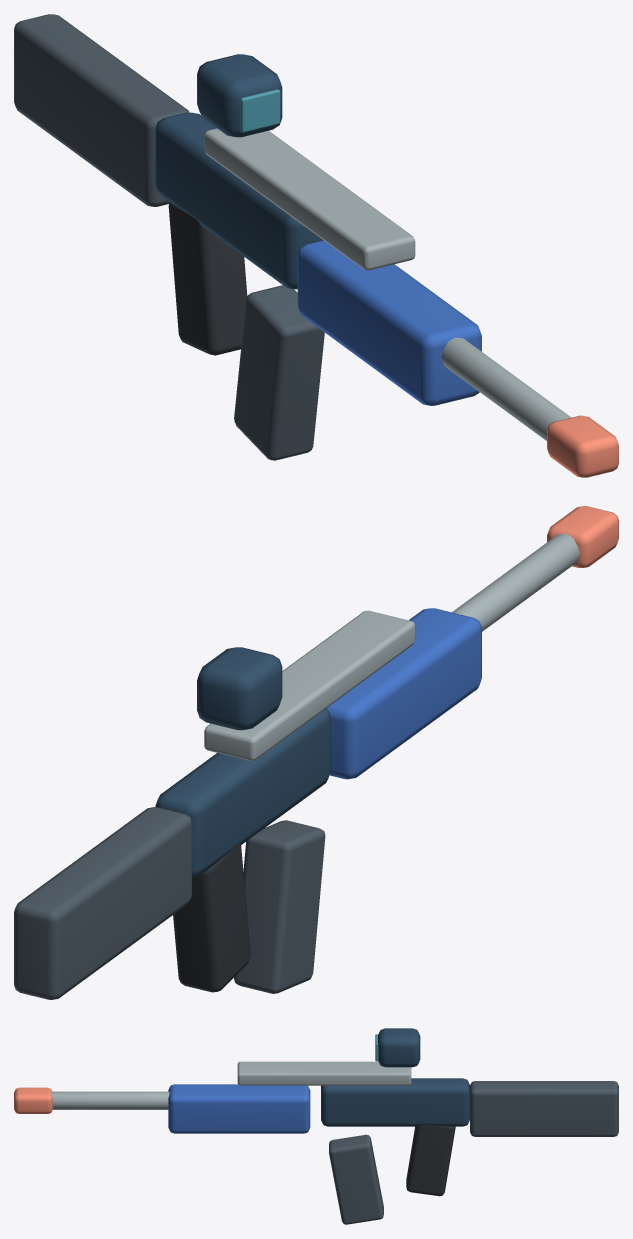
The model's file is HL_Carbine_Breakwater.fbx.
3 views of the same model, one above another, from view 1: azimuth 30°, elevation 25°; view 2: azimuth 150°, elevation 25°; view 3: azimuth 270°, elevation 25° (orthographic). The views are drawn at different scales.
Visible parts, largest first — view 1: Carbine | stock, Carbine | handguard, Carbine | magazine, Carbine | receiver, Carbine | upper rail, Carbine | pistol grip, Carbine | barrel, Carbine | optic housing, Carbine | muzzle brake, Carbine | optic glass; view 2: Carbine | stock, Carbine | handguard, Carbine | receiver, Carbine | magazine, Carbine | upper rail, Carbine | pistol grip, Carbine | optic housing, Carbine | barrel, Carbine | muzzle brake; view 3: Carbine | stock, Carbine | handguard, Carbine | receiver, Carbine | upper rail, Carbine | magazine, Carbine | pistol grip, Carbine | barrel, Carbine | optic housing, Carbine | muzzle brake.
Part boxes in pixels (x1=…): Carbine | stock: x1=14, y1=14, x2=189, y2=206; Carbine | handguard: x1=297, y1=240, x2=481, y2=405; Carbine | magazine: x1=234, y1=285, x2=324, y2=460; Carbine | receiver: x1=155, y1=112, x2=322, y2=289; Carbine | upper rail: x1=204, y1=128, x2=415, y2=270; Carbine | pistol grip: x1=168, y1=202, x2=247, y2=355; Carbine | barrel: x1=441, y1=337, x2=571, y2=440; Carbine | optic housing: x1=197, y1=54, x2=282, y2=137; Carbine | muzzle brake: x1=547, y1=415, x2=618, y2=477; Carbine | optic glass: x1=240, y1=89, x2=280, y2=132; Carbine | stock: x1=14, y1=807, x2=191, y2=999; Carbine | handguard: x1=326, y1=608, x2=481, y2=779; Carbine | receiver: x1=155, y1=708, x2=330, y2=877; Carbine | magazine: x1=234, y1=820, x2=325, y2=993; Carbine | upper rail: x1=204, y1=610, x2=415, y2=760; Carbine | pistol grip: x1=173, y1=844, x2=250, y2=992; Carbine | optic housing: x1=197, y1=647, x2=282, y2=730; Carbine | barrel: x1=452, y1=533, x2=579, y2=631; Carbine | muzzle brake: x1=547, y1=506, x2=618, y2=567; Carbine | stock: x1=470, y1=1081, x2=618, y2=1136; Carbine | handguard: x1=168, y1=1084, x2=310, y2=1133; Carbine | receiver: x1=321, y1=1078, x2=469, y2=1126; Carbine | upper rail: x1=237, y1=1061, x2=411, y2=1085; Carbine | magazine: x1=329, y1=1134, x2=383, y2=1224; Carbine | pistol grip: x1=406, y1=1125, x2=455, y2=1196; Carbine | barrel: x1=51, y1=1091, x2=169, y2=1109; Carbine | optic housing: x1=378, y1=1028, x2=420, y2=1067; Carbine | muzzle brake: x1=14, y1=1087, x2=52, y2=1113.
Bounding box in the file's own units: 10.5 × 58.39 × 170.
